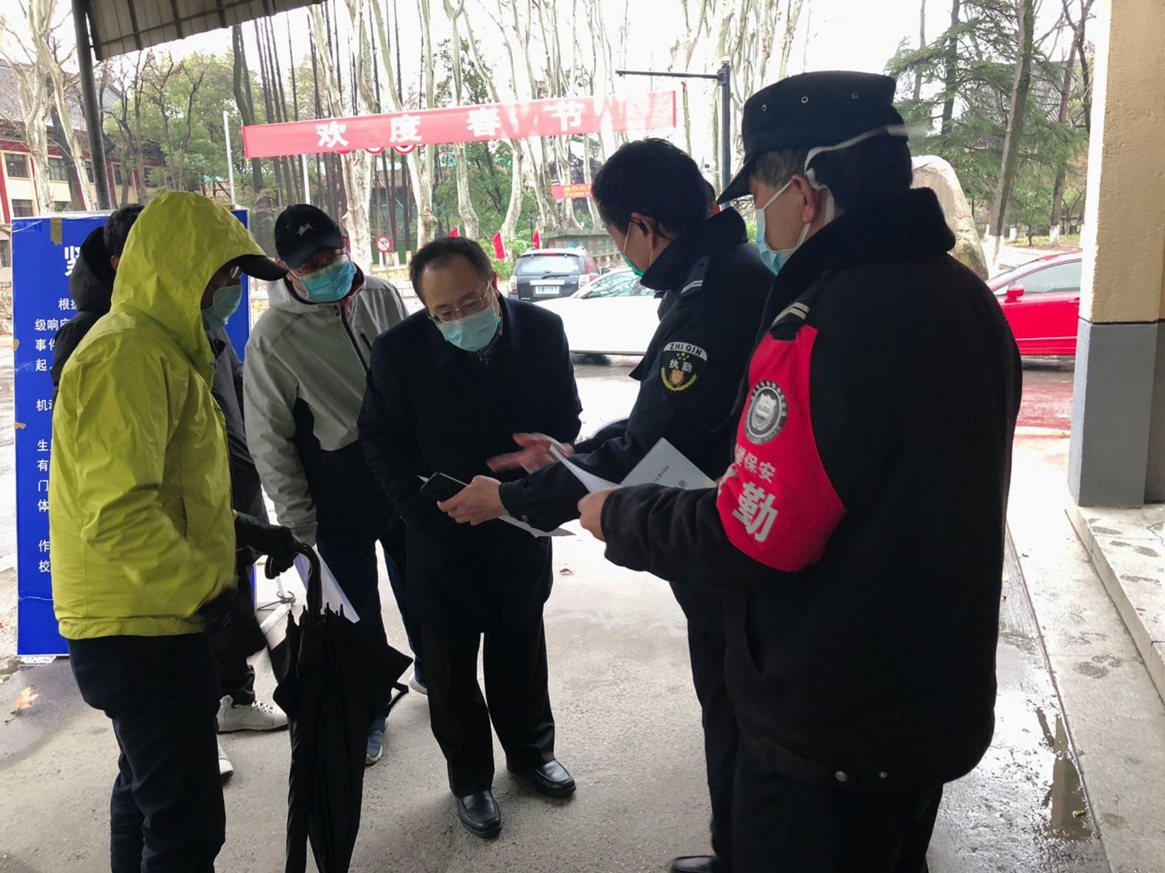correctlyWear: (744, 158, 823, 280), (595, 183, 665, 279), (421, 281, 506, 352), (280, 237, 358, 304), (207, 259, 251, 337)
